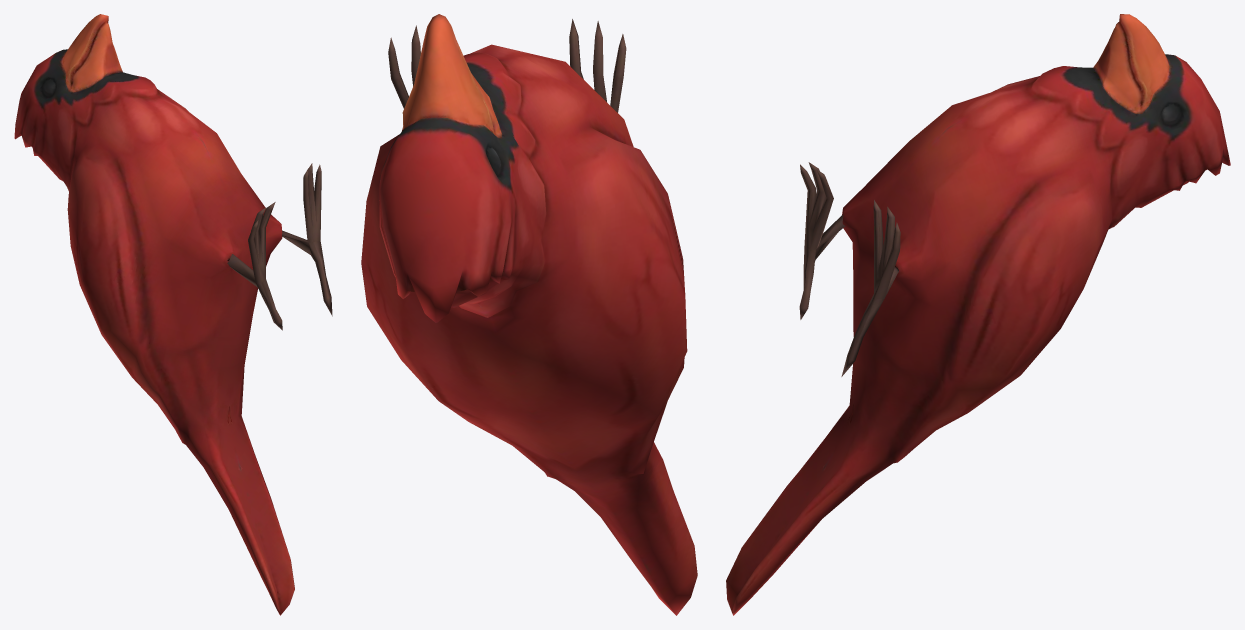
The picture shows the model from 3 angles, left to right: view 1: azimuth 30°, elevation 25°; view 2: azimuth 150°, elevation 25°; view 3: azimuth 270°, elevation 25°; orthographic projection. The views are drawn at different scales.
Visible parts, largest first — view 1: body0_model0_lod0_mesh0; view 2: body0_model0_lod0_mesh0; view 3: body0_model0_lod0_mesh0.
Part boxes in pixels (bbox=[...]): body0_model0_lod0_mesh0: bbox=[14, 14, 332, 615]; body0_model0_lod0_mesh0: bbox=[361, 14, 697, 615]; body0_model0_lod0_mesh0: bbox=[726, 14, 1230, 615].
Size of the model in its own units: 5.15 by 11.45 by 8.84.
Materials: 1 (1 with a texture image).
